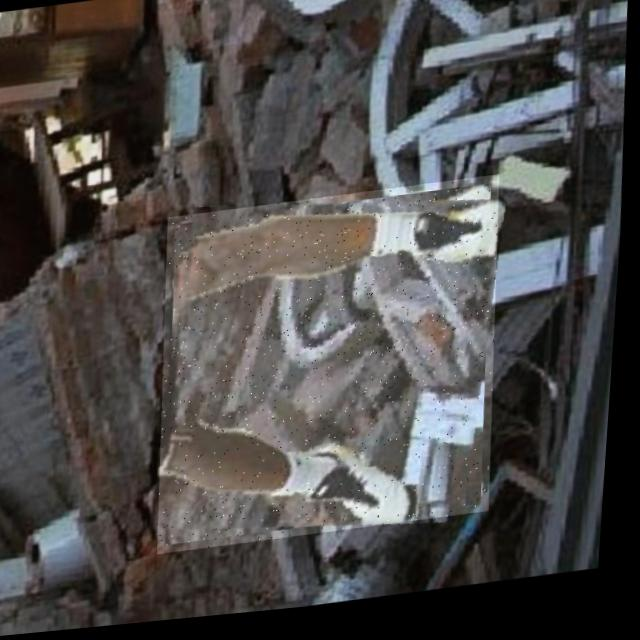Person in Rubble: (153, 183, 514, 558)
